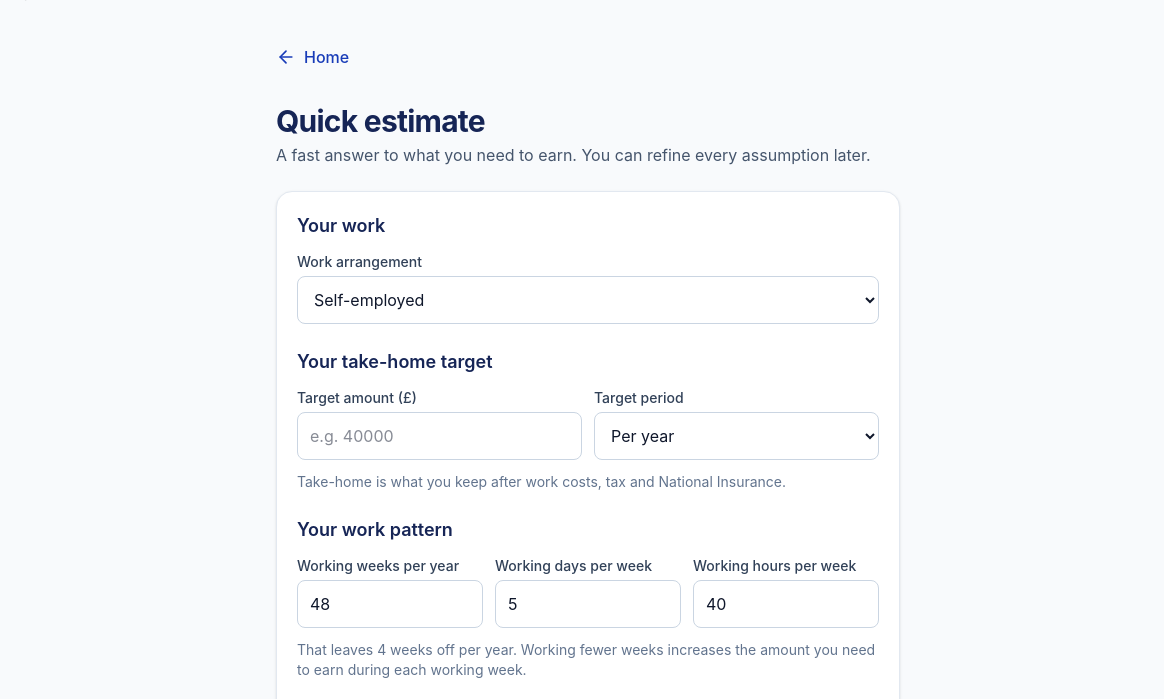
Test case: QuickEstimate › shows the Scotland notice instead of numbers
Type "40000" into the field labelled "Target amount (£)" at (440, 436), box [297, 412, 582, 460]
(page scrolled)
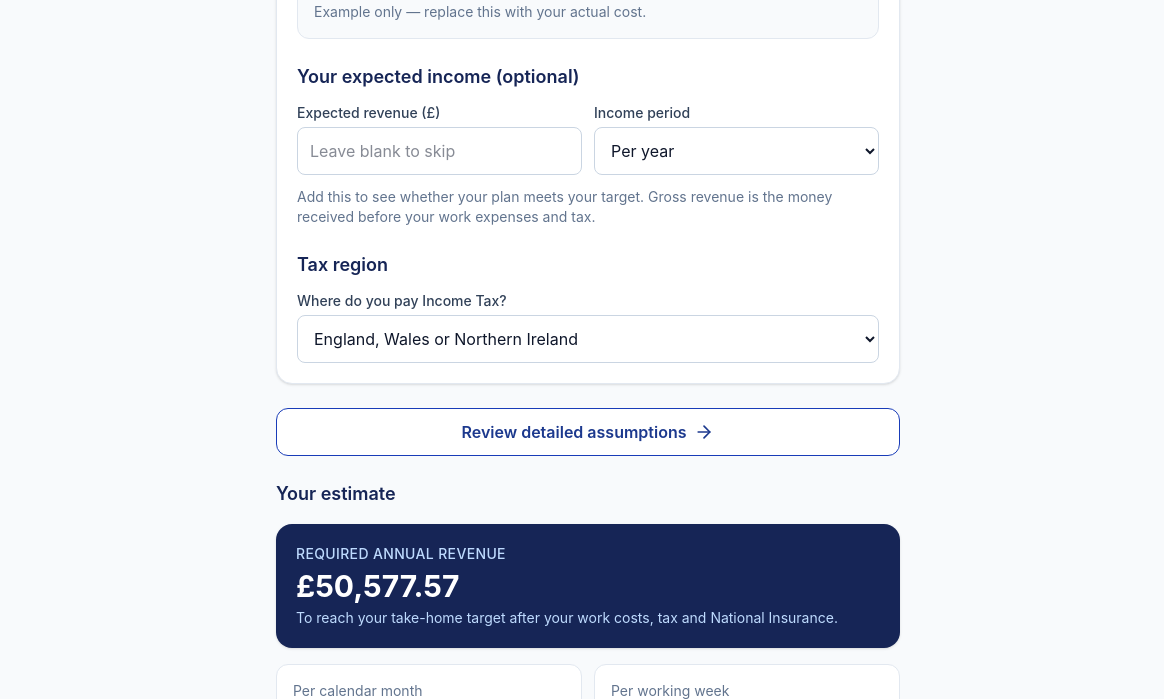
Select "Scotland" in the dropdown labelled "Where do you pay Income Tax?" at (588, 339), box [297, 315, 879, 363]
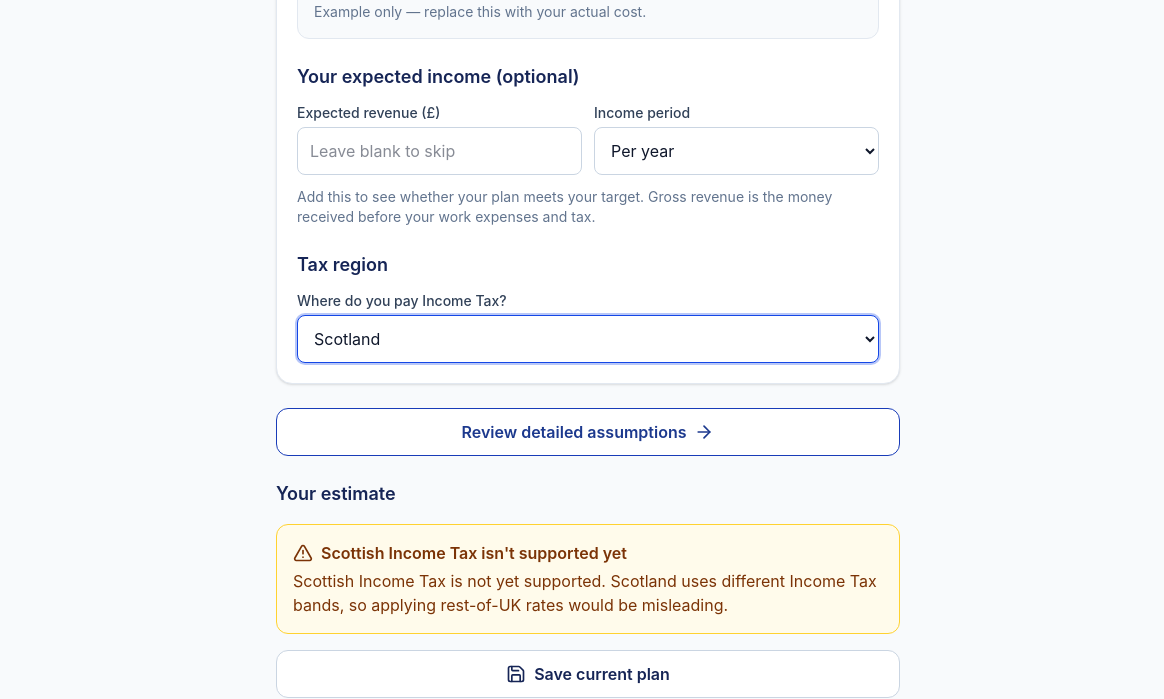
Expected: the text "Scottish Income Tax isn't supported yet" is shown, [293, 543, 627, 563]
Expected: the heading "Required annual revenue" is gone
